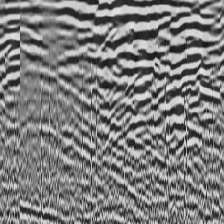cavities: (59, 2, 224, 152)
